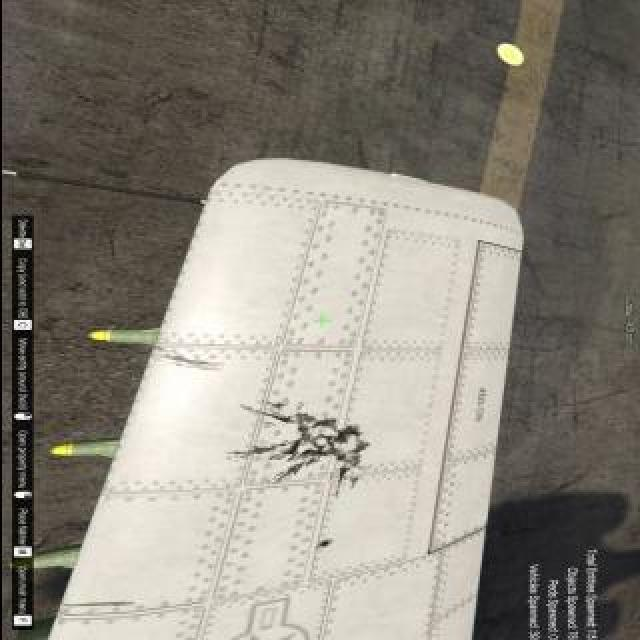crack: (279, 437, 307, 457), (334, 426, 358, 446), (234, 446, 274, 456), (280, 463, 304, 479), (270, 412, 290, 426), (300, 451, 332, 459), (313, 540, 333, 552), (310, 420, 334, 430), (339, 455, 359, 467), (336, 470, 350, 486), (351, 444, 367, 456), (297, 414, 309, 430), (267, 402, 287, 408)
dent: (151, 348, 221, 374)
